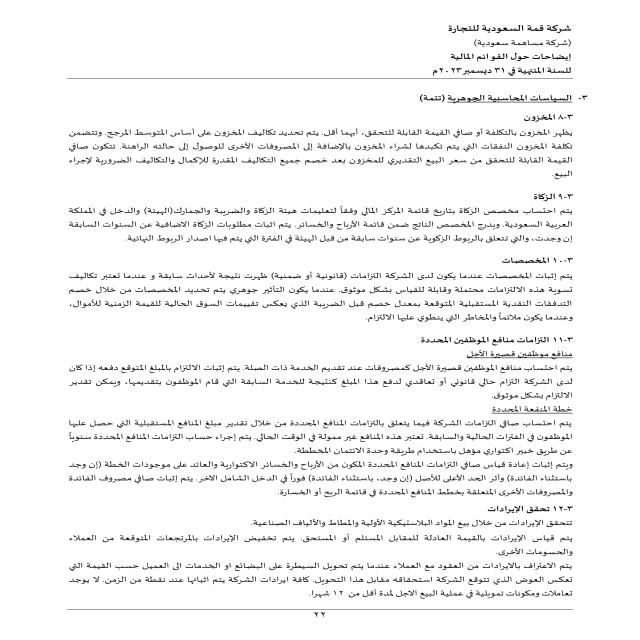notes: (436, 52, 581, 62)
text: (38, 87, 600, 601)
